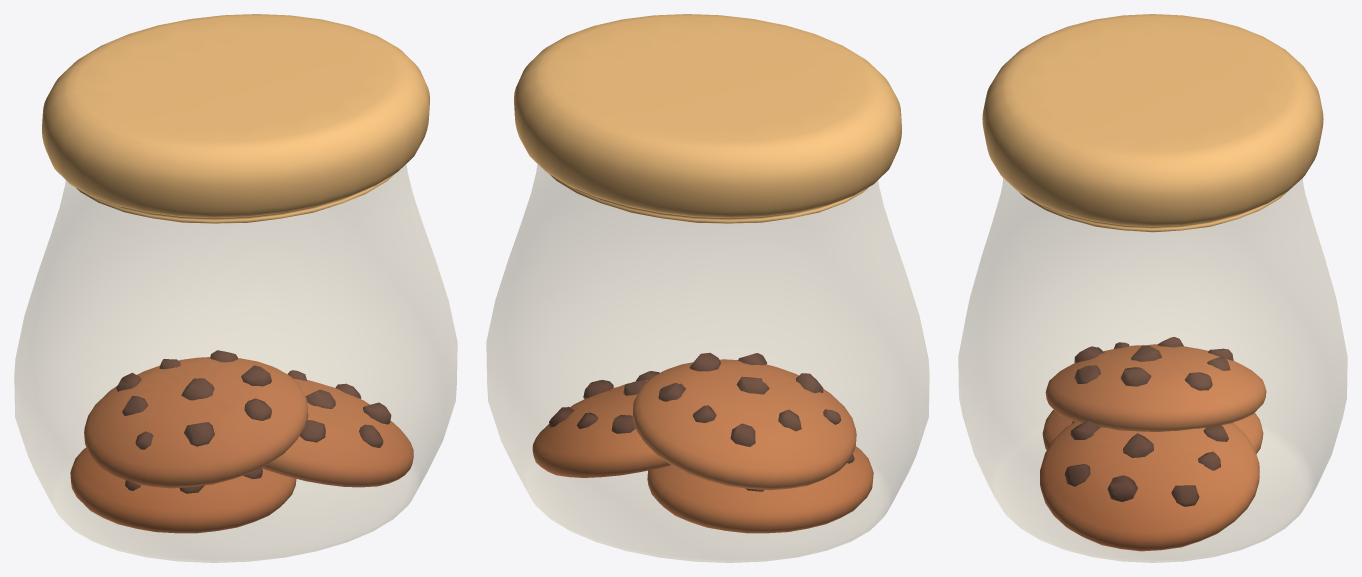
File: cookie_jar_low-poly.glb
3 renders of one model, left to right at view 1: azimuth 30°, elevation 25°; view 2: azimuth 150°, elevation 25°; view 3: azimuth 270°, elevation 25°, orthographic. The views are drawn at different scales.
Visible parts, largest first — view 1: Cylinder.001, Cylinder.002, Circle.002, Circle.001, Circle; view 2: Cylinder.001, Cylinder.002, Circle.002, Circle, Circle.001; view 3: Cylinder.001, Cylinder.002, Circle.001, Circle.002, Circle.
Part boxes in pixels (bbox=[...]): Cylinder.001: bbox=[14, 164, 457, 562]; Cylinder.002: bbox=[42, 14, 429, 223]; Circle.002: bbox=[84, 350, 308, 488]; Circle.001: bbox=[261, 370, 413, 487]; Circle: bbox=[70, 448, 296, 533]; Cylinder.001: bbox=[486, 164, 929, 562]; Cylinder.002: bbox=[514, 14, 901, 223]; Circle.002: bbox=[632, 352, 856, 490]; Circle: bbox=[647, 446, 873, 533]; Circle.001: bbox=[532, 371, 670, 477]; Cylinder.001: bbox=[958, 179, 1347, 562]; Cylinder.002: bbox=[982, 14, 1323, 232]; Circle.001: bbox=[1040, 420, 1259, 551]; Circle.002: bbox=[1045, 337, 1266, 431]; Circle: bbox=[1042, 410, 1263, 453].
Bounding box in the file's own units: 0.8657 × 0.8685 × 0.7547.
3 materials, 3 textured.
